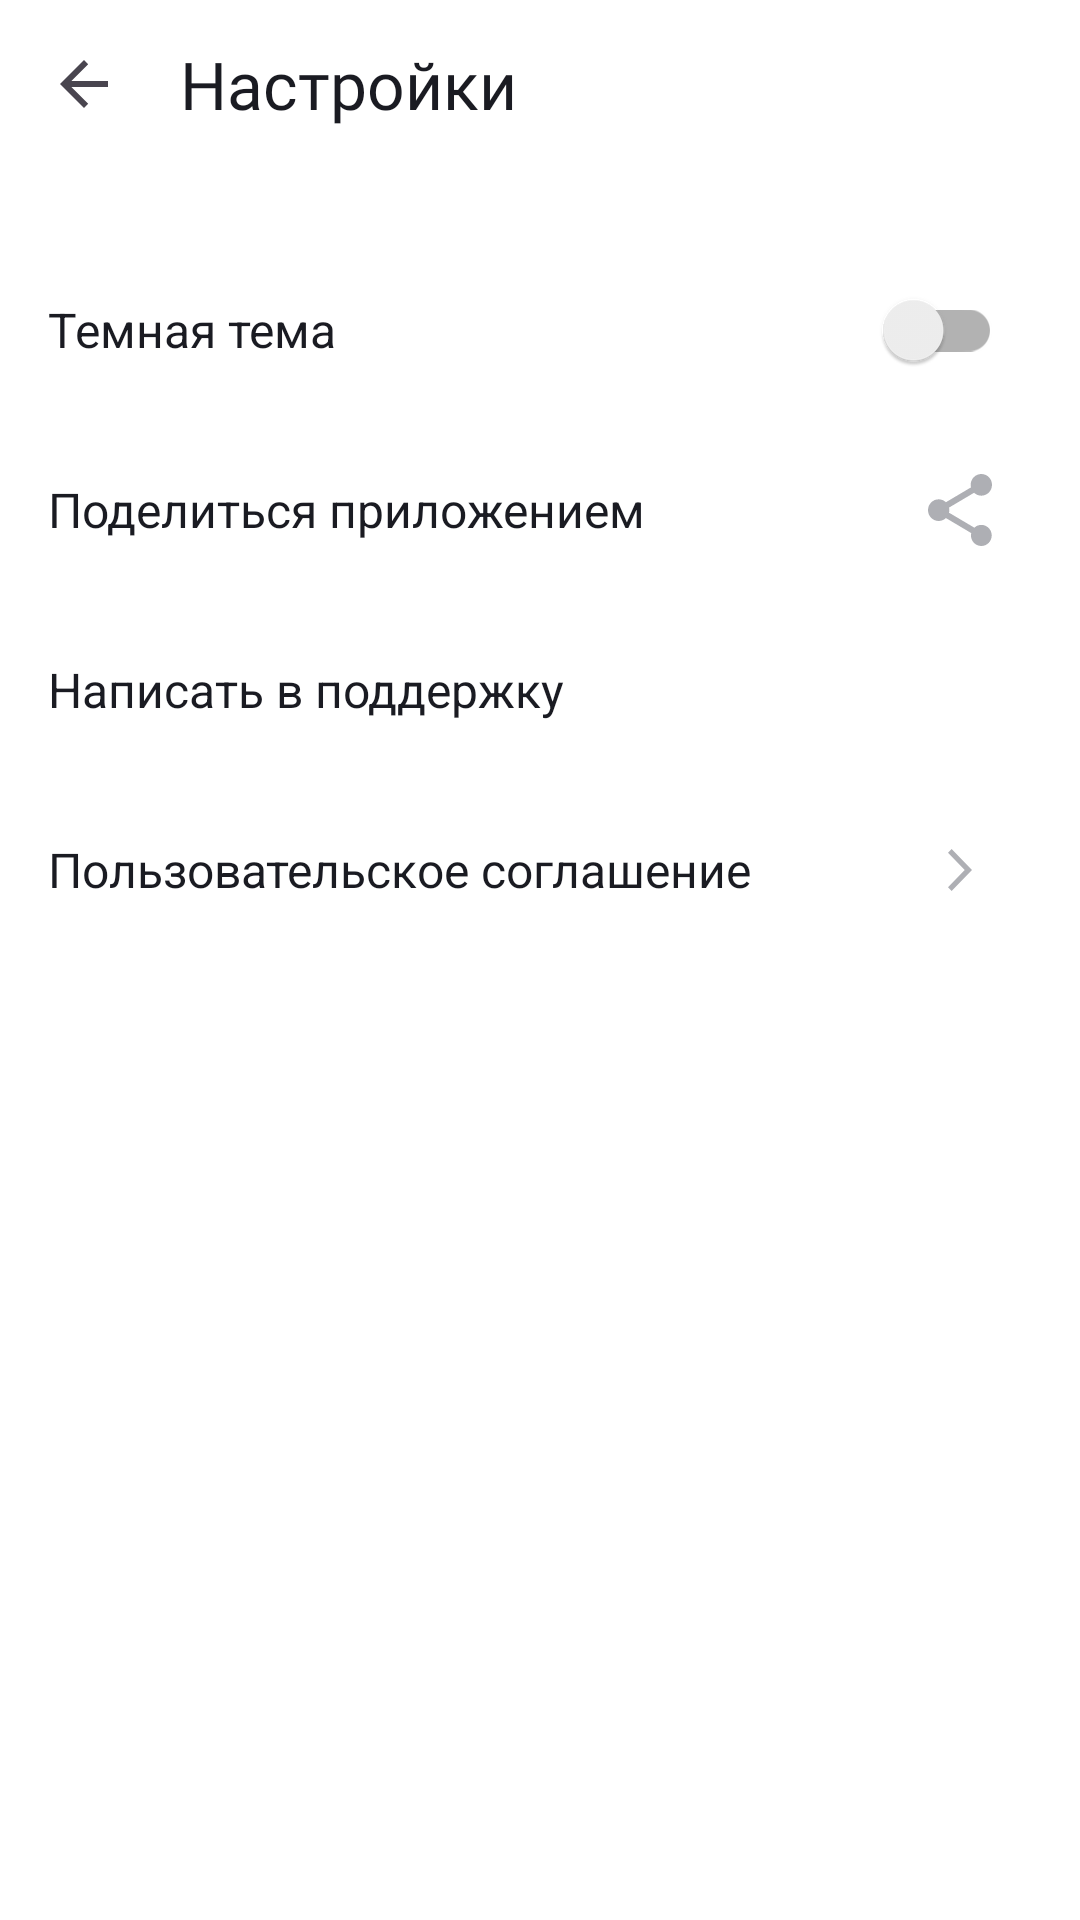

Where to tap for icons on this 1080w x 1920h app screen, as [x,y]:
arrow forward: [960,870]
share: [960,510]
